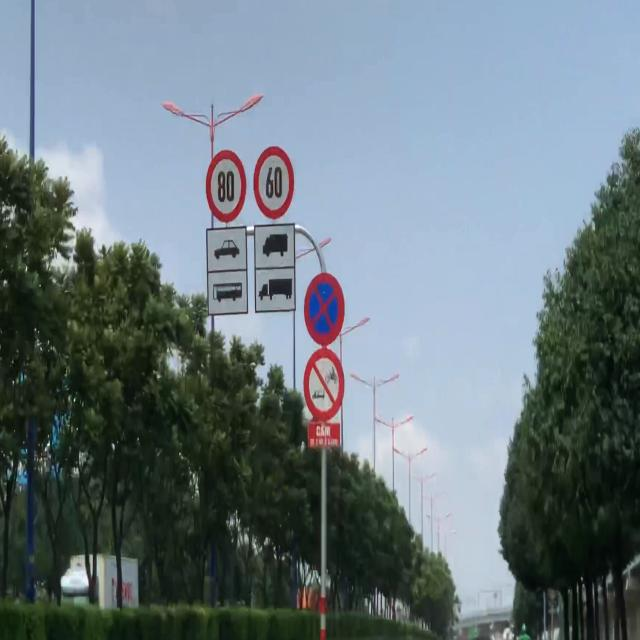Cam con lai: (304, 348, 345, 420)
Cam dung va do: (303, 270, 345, 346)
Toc do toi da: (252, 138, 294, 218), (205, 148, 249, 222)
